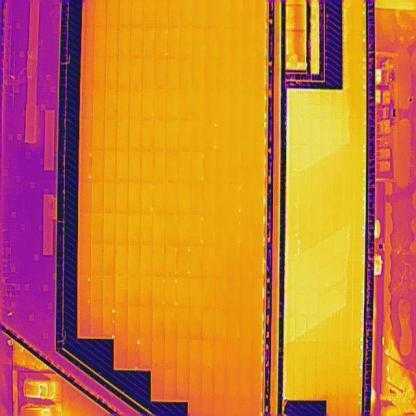Hotspot: (155, 26, 169, 60), (204, 120, 218, 152), (190, 152, 204, 183), (190, 214, 204, 245), (102, 306, 116, 337), (141, 181, 154, 214), (128, 338, 141, 370), (166, 244, 178, 278), (178, 245, 191, 276), (230, 181, 242, 214), (79, 274, 91, 306), (166, 276, 178, 308), (153, 276, 165, 307), (80, 150, 92, 180)
Normal: (216, 120, 231, 153), (204, 58, 219, 90), (204, 182, 218, 216), (190, 244, 204, 278), (130, 26, 144, 60), (142, 56, 156, 90), (142, 88, 156, 121), (228, 120, 242, 153), (154, 151, 168, 184), (116, 181, 130, 214), (202, 307, 216, 340), (118, 25, 132, 58), (237, 340, 252, 370), (166, 151, 180, 183), (190, 182, 204, 214), (90, 244, 104, 276), (102, 244, 116, 276), (152, 307, 166, 339), (152, 338, 166, 370), (180, 26, 194, 58), (168, 26, 182, 58), (167, 58, 181, 90), (227, 244, 240, 278), (106, 55, 119, 89), (155, 56, 168, 90), (80, 119, 94, 150), (116, 151, 130, 182), (214, 245, 228, 276), (152, 245, 166, 276), (90, 275, 104, 306), (102, 275, 116, 306), (226, 277, 240, 308), (226, 309, 240, 340), (237, 370, 251, 401), (242, 88, 255, 121), (115, 336, 128, 369), (80, 88, 94, 118), (204, 90, 218, 120), (204, 152, 218, 182), (202, 278, 216, 308), (225, 340, 239, 370), (152, 370, 166, 400), (94, 26, 108, 56), (129, 120, 142, 152), (104, 150, 117, 182), (128, 244, 141, 276), (115, 276, 128, 308), (202, 340, 215, 372), (93, 56, 106, 88), (180, 58, 193, 90), (179, 118, 191, 152), (241, 120, 253, 154), (204, 244, 216, 278), (128, 274, 140, 308), (155, 88, 168, 119), (217, 88, 230, 119), (129, 151, 142, 182), (141, 214, 154, 245), (143, 27, 156, 58), (230, 27, 243, 58), (130, 57, 143, 88), (130, 88, 142, 121), (167, 119, 179, 152), (80, 181, 92, 214), (92, 181, 104, 214), (129, 181, 141, 214), (252, 181, 264, 214), (178, 306, 190, 339), (166, 306, 178, 339), (190, 307, 202, 340), (104, 120, 117, 150), (90, 306, 103, 336), (214, 340, 227, 370), (230, 88, 242, 120), (106, 88, 118, 120), (155, 120, 167, 152), (142, 120, 154, 152), (192, 120, 204, 152), (252, 120, 264, 152), (142, 150, 154, 182), (241, 182, 253, 214), (154, 182, 166, 214), (79, 212, 91, 244), (140, 306, 152, 338), (140, 338, 152, 370), (244, 26, 256, 58), (82, 56, 94, 88), (118, 58, 130, 90), (244, 58, 256, 90), (192, 58, 204, 90), (218, 58, 230, 90), (155, 0, 169, 27), (168, 0, 182, 27), (93, 89, 106, 118), (167, 90, 180, 119), (118, 88, 130, 119), (92, 119, 104, 150), (92, 151, 104, 182), (104, 213, 116, 244), (116, 213, 128, 244), (92, 214, 104, 245), (178, 214, 190, 245), (154, 214, 166, 245), (166, 214, 178, 245), (129, 214, 141, 245), (251, 244, 263, 275), (116, 245, 128, 276), (140, 276, 152, 307), (178, 276, 190, 307), (214, 277, 226, 308), (239, 277, 251, 308), (115, 307, 127, 338), (128, 307, 140, 338), (250, 308, 262, 339), (239, 309, 251, 340), (178, 339, 190, 370), (166, 339, 178, 370), (190, 339, 202, 370), (106, 25, 118, 56), (82, 26, 94, 57), (218, 28, 230, 59), (206, 28, 218, 59), (254, 27, 266, 58), (193, 29, 205, 60), (94, 0, 108, 26), (193, 0, 206, 28), (217, 181, 228, 214), (180, 90, 192, 120), (192, 90, 204, 120), (118, 120, 130, 150), (242, 152, 254, 182), (104, 182, 116, 212), (166, 183, 178, 213), (204, 214, 216, 244), (190, 276, 202, 306), (178, 370, 190, 400), (190, 370, 202, 400), (250, 370, 262, 400), (214, 370, 226, 400), (179, 151, 190, 183), (240, 244, 251, 276), (227, 370, 238, 402), (218, 152, 230, 181), (216, 216, 228, 245), (249, 340, 261, 369), (179, 182, 190, 213), (251, 277, 262, 308), (215, 309, 226, 340), (231, 58, 242, 89), (131, 0, 144, 26), (206, 0, 218, 28), (230, 152, 242, 180), (80, 244, 91, 274), (119, 0, 131, 27), (181, 0, 193, 27), (144, 0, 156, 27), (244, 0, 256, 27), (228, 215, 240, 242), (240, 216, 252, 243), (254, 89, 264, 121), (253, 153, 264, 182), (203, 372, 214, 401), (83, 0, 95, 26), (219, 0, 230, 28), (231, 0, 242, 28), (142, 246, 152, 276), (80, 306, 90, 336), (255, 0, 266, 27), (252, 215, 263, 242), (166, 370, 176, 399), (107, 0, 118, 26), (256, 60, 264, 88)
